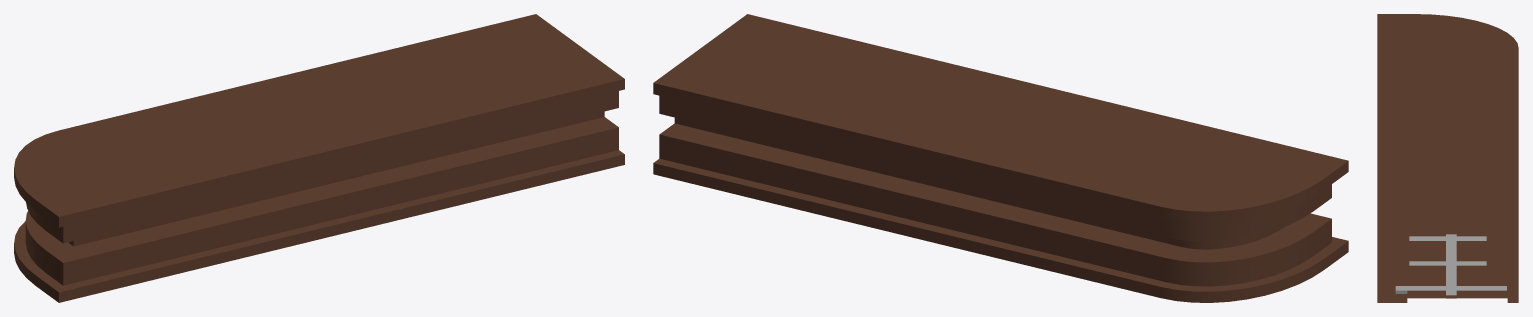
The model's file is SM_Barhaut.fbx.
The picture shows the model from 3 angles, left to right: view 1: azimuth 30°, elevation 25°; view 2: azimuth 150°, elevation 25°; view 3: azimuth 270°, elevation 25°; orthographic projection. The views are drawn at different scales.
Parts seen in each view (by area): view 1: Barhaut; view 2: Barhaut; view 3: Barhaut.
Boxes of the visible parts, x1,y1,x2,y2 form: Barhaut: [14, 14, 624, 302]; Barhaut: [653, 14, 1348, 302]; Barhaut: [1377, 14, 1518, 302].
Size of the model in its own units: 915 by 133 by 248.
